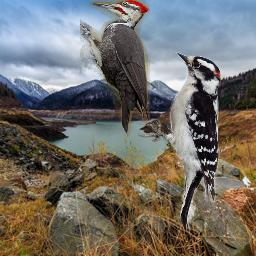Woodpecker: (138, 50, 223, 231), (80, 0, 150, 138)
